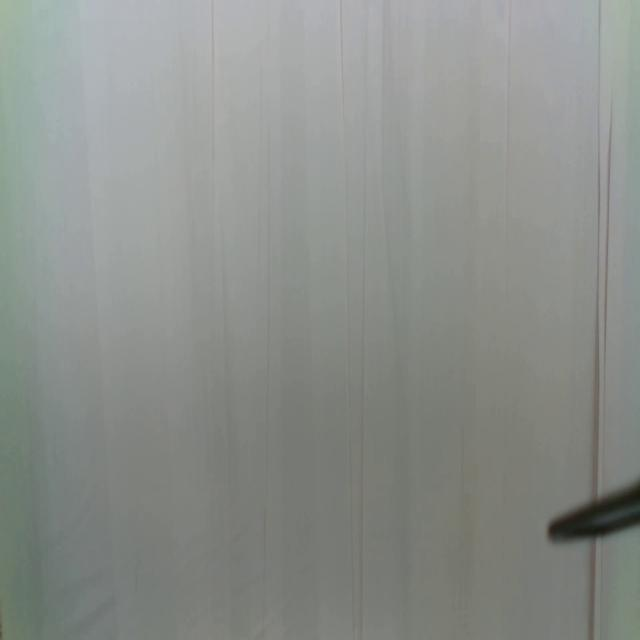crease: (339, 1, 355, 640), (260, 125, 273, 638), (360, 1, 370, 639), (591, 0, 603, 494), (602, 87, 616, 396), (503, 0, 512, 236), (210, 0, 218, 171), (588, 537, 600, 639)
